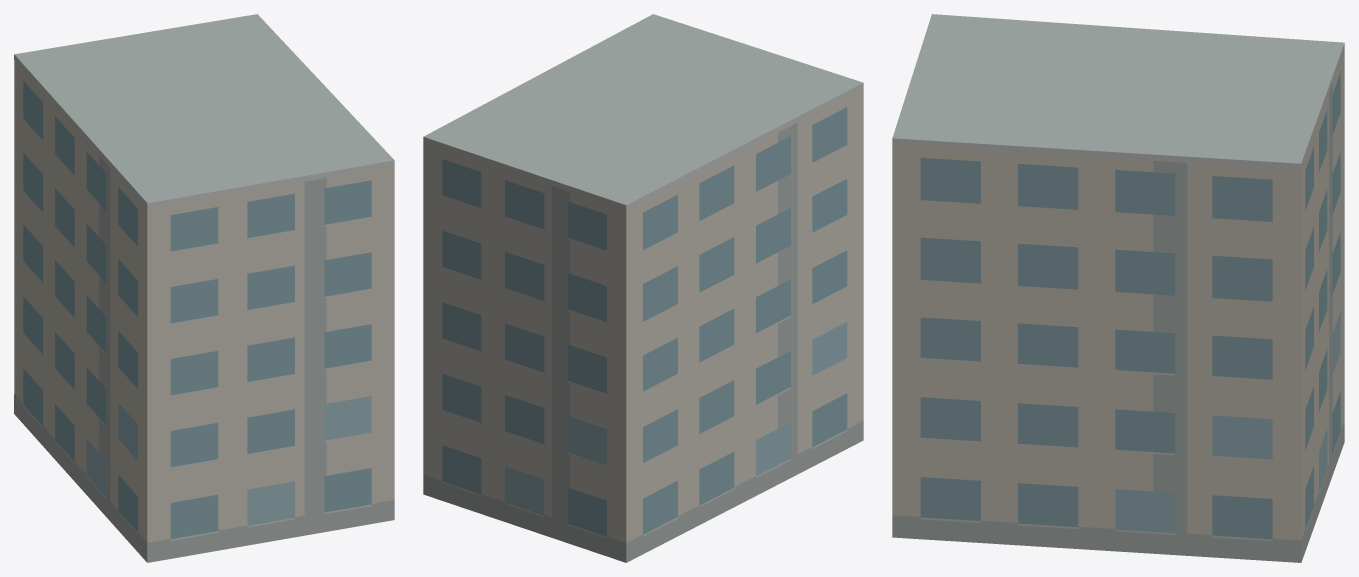
The model's file is survey-upis-32494316.glb.
3 renders of one model, left to right at view 1: azimuth 30°, elevation 25°; view 2: azimuth 150°, elevation 25°; view 3: azimuth 270°, elevation 25°, orthographic. The views are drawn at different scales.
Parts seen in each view (by area): view 1: survey-upis-32494316.tmp; view 2: survey-upis-32494316.tmp; view 3: survey-upis-32494316.tmp.
Boxes of the visible parts, x1,y1,x2,y2 form: survey-upis-32494316.tmp: (14, 14, 394, 562); survey-upis-32494316.tmp: (423, 14, 863, 562); survey-upis-32494316.tmp: (892, 14, 1344, 562).
Size of the model in its own units: 12.28 by 15.25 by 15.67.
